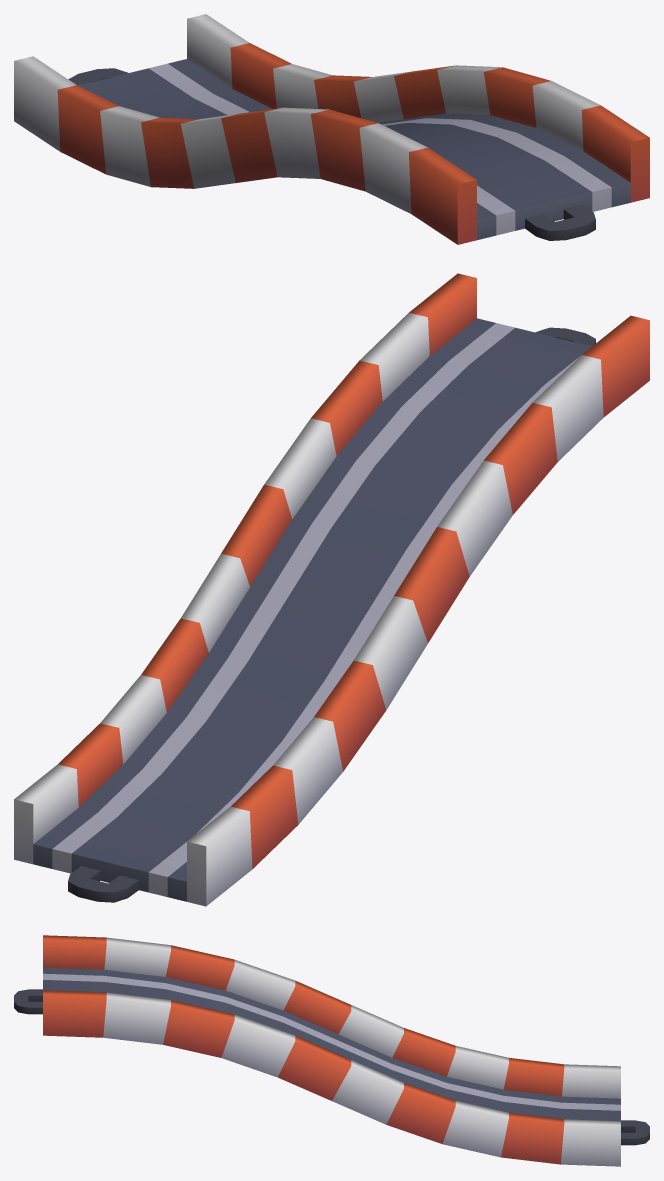
Rendered from track-road-narrow-straight-hill-complete.glb.
The picture shows the model from 3 angles, top to bottom: view 1: azimuth 30°, elevation 25°; view 2: azimuth 150°, elevation 25°; view 3: azimuth 270°, elevation 25°; orthographic projection. The views are drawn at different scales.
Visible parts, largest first — view 1: track-road-narrow-straight-hill-complete; view 2: track-road-narrow-straight-hill-complete; view 3: track-road-narrow-straight-hill-complete.
Boxes of the visible parts, box(x1,y1,x2,y2) form: track-road-narrow-straight-hill-complete: box(14, 14, 649, 244); track-road-narrow-straight-hill-complete: box(14, 273, 649, 906); track-road-narrow-straight-hill-complete: box(14, 935, 649, 1166).
Size of the model in its own units: 1 by 1.3 by 4.4.
